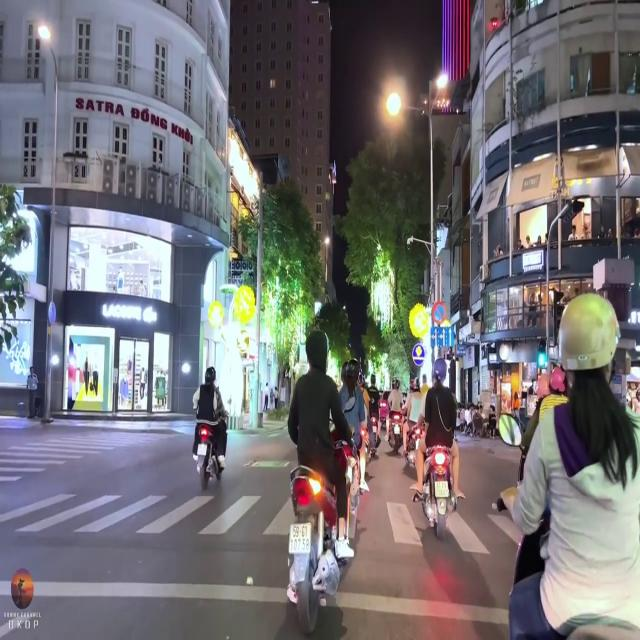bien_trang: (288, 524, 311, 556)
